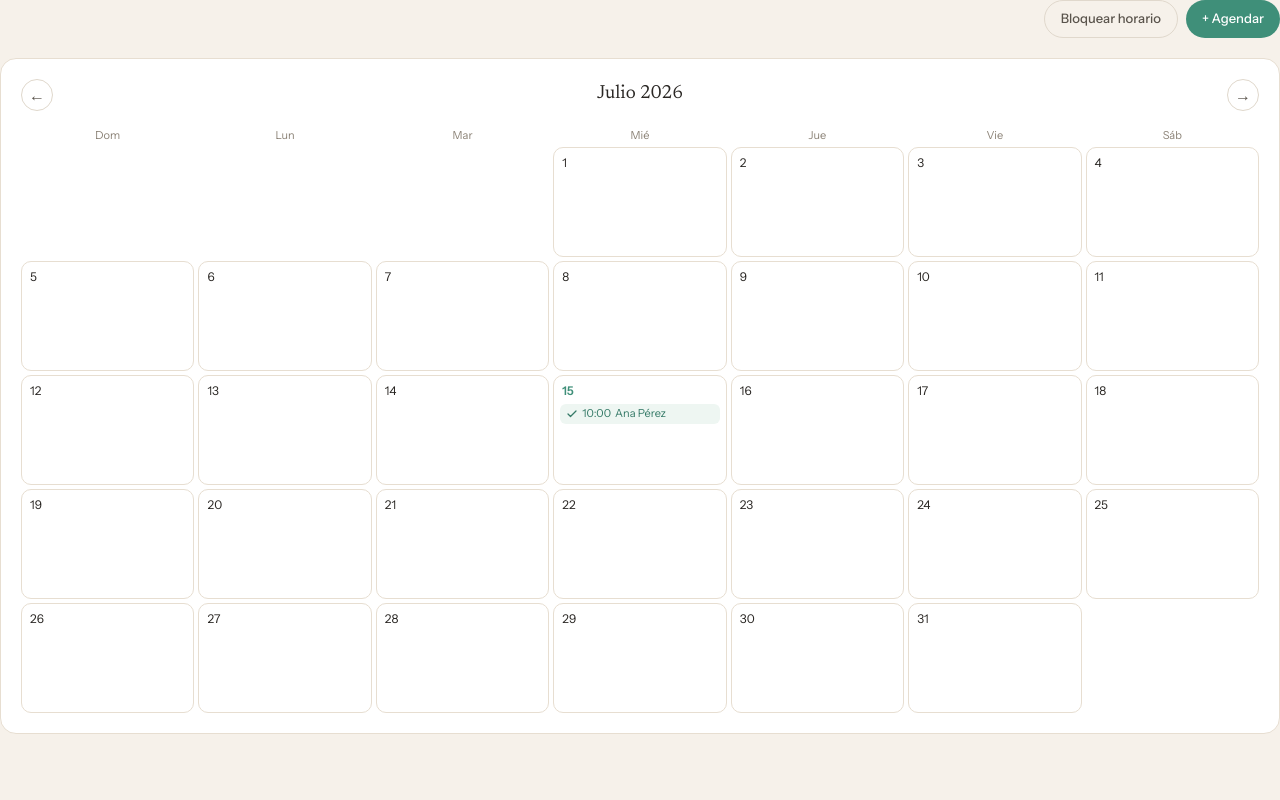
Test: CalendarView — navegación día → detalle → volver › desde el modal del día se abre el detalle y al cerrarlo se vuelve al modal del día
Tocar el día 15 abre el modal del día (aún sin "Reagendar", exclusivo del detalle).
Step 1. Click the button "15 10:00 Ana Pérez" → (640,430), box x1=553 y1=375 x2=727 y2=485
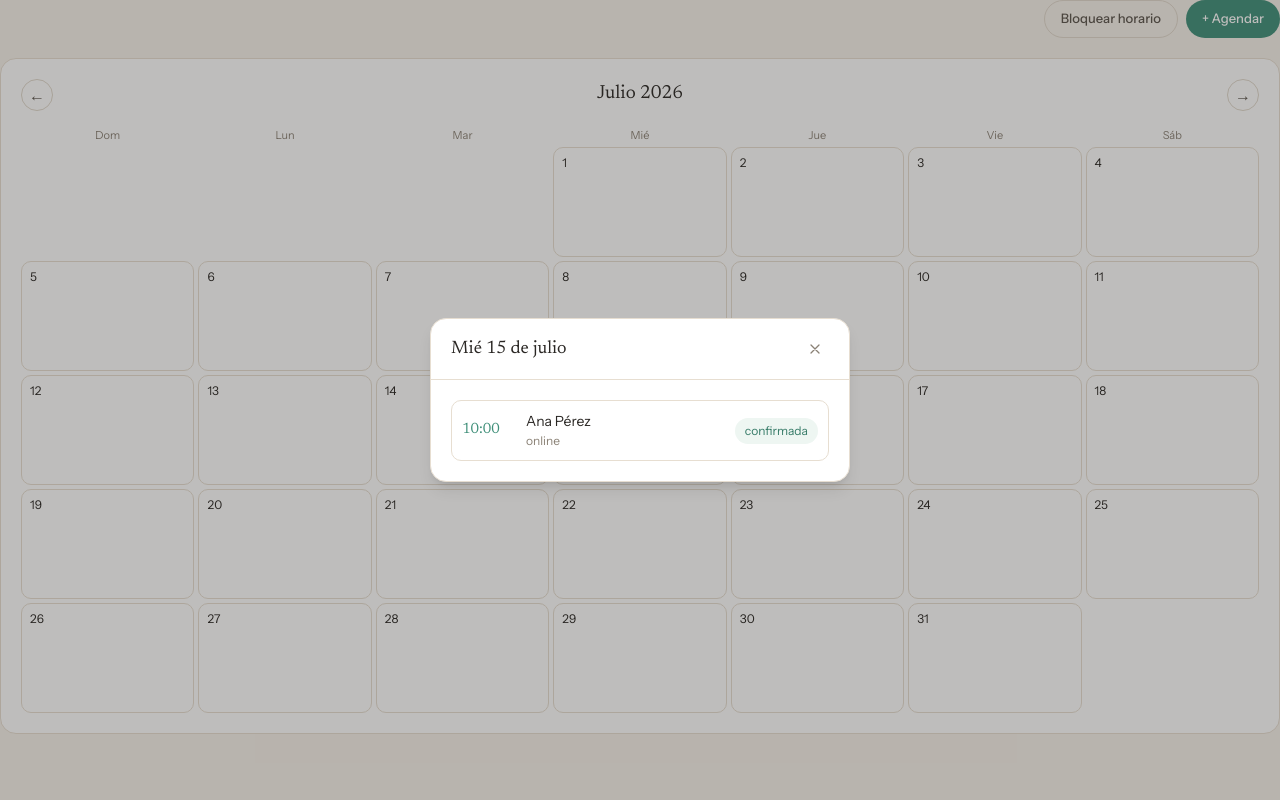
Expected: the button "Reagendar" is not shown
Now the heading "Mié 15 de julio" is shown, box x1=451 y1=336 x2=566 y2=362
Click en la cita de la lista (la modalidad "online" solo aparece en el listado del día).
Step 2. Click the button "10:00 Ana Pérez online confirmada" → (481,430), box x1=451 y1=400 x2=829 y2=461
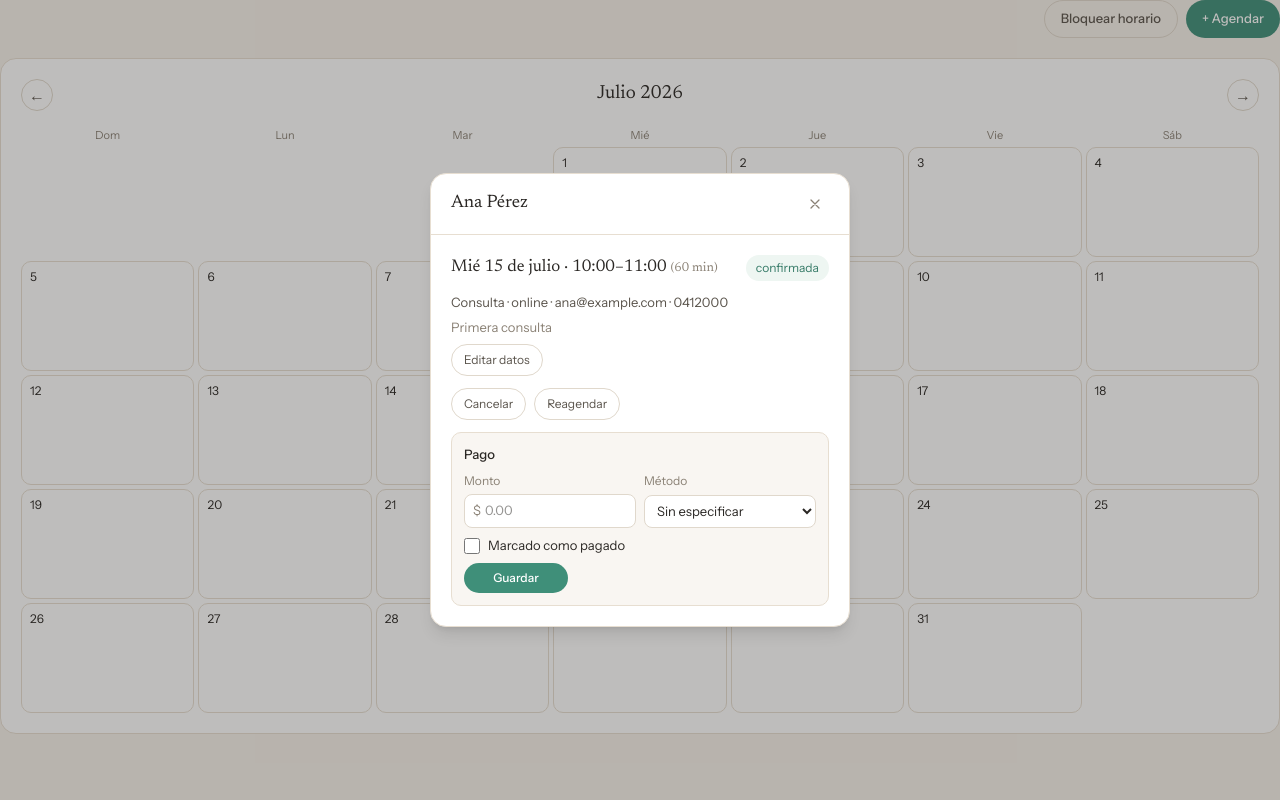
Now the button "Reagendar" is shown, box x1=534 y1=388 x2=620 y2=420
Now the heading "Ana Pérez" is shown, box x1=451 y1=190 x2=528 y2=217
Cerrar el detalle vuelve al modal del día (sin "Reagendar", con el listado otra vez).
Step 3. Click the button named "Cerrar" → (815,204), box x1=801 y1=190 x2=829 y2=218
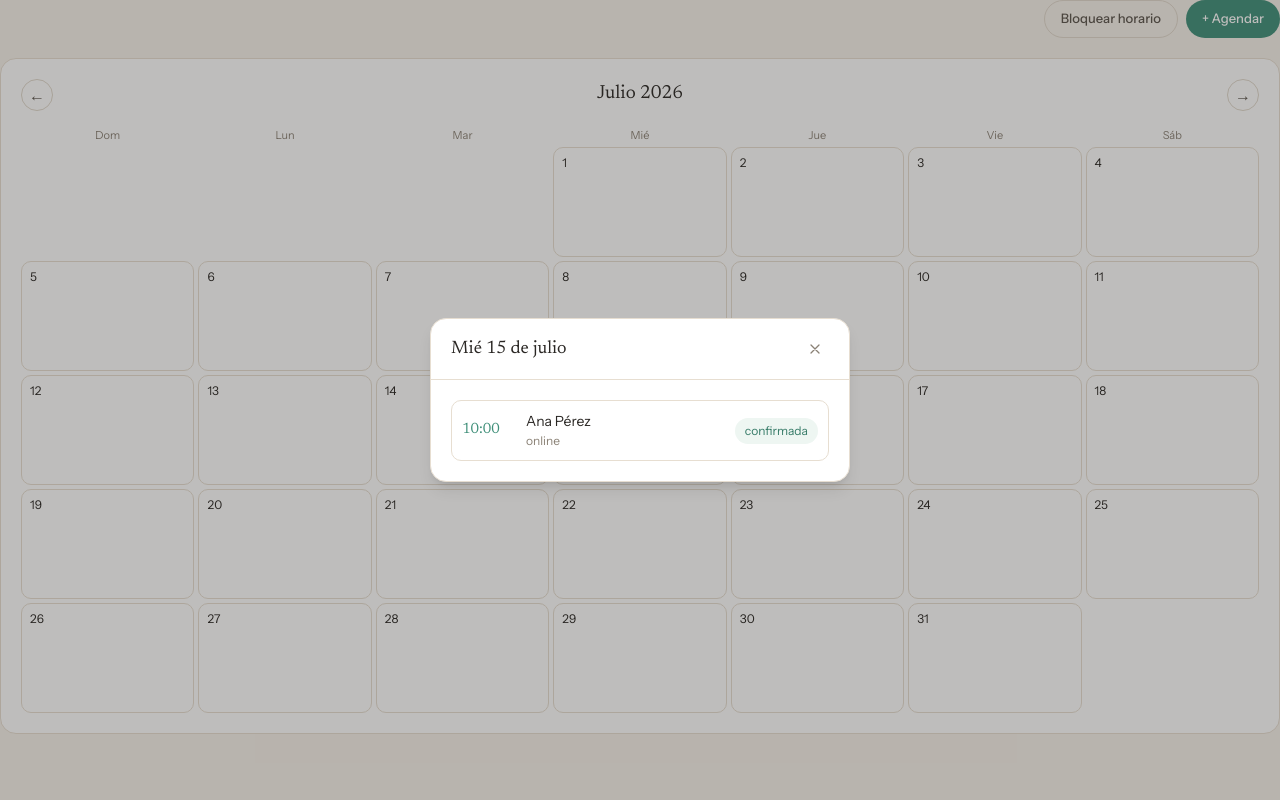
Now the text "online" is shown, box x1=526 y1=433 x2=560 y2=448
Now the button "Reagendar" is gone
